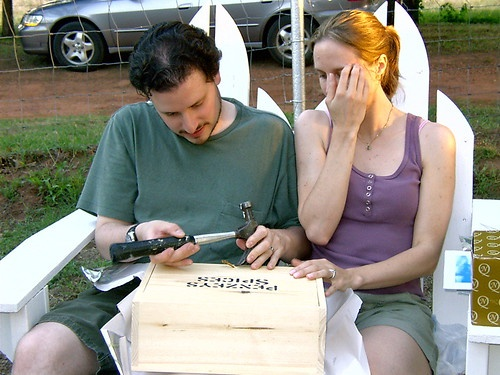hammer: (108, 198, 266, 267)
